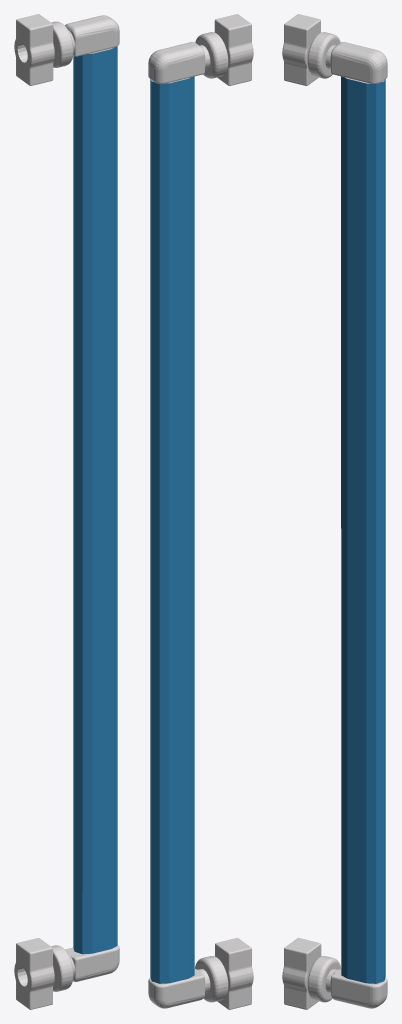
Rendered from handrail_30.dae.
3 renders of one model, left to right at view 1: azimuth 30°, elevation 25°; view 2: azimuth 210°, elevation 25°; view 3: azimuth 330°, elevation 25°, orthographic.
Visible parts, largest first — view 1: Handrail_30_001, Handrail_30; view 2: Handrail_30_001, Handrail_30; view 3: Handrail_30_001, Handrail_30.
Boxes of the visible parts, x1,y1,x2,y2 form: Handrail_30_001: (73, 46, 117, 954); Handrail_30: (14, 14, 119, 1009); Handrail_30_001: (150, 76, 194, 983); Handrail_30: (148, 14, 253, 1009); Handrail_30_001: (341, 76, 385, 983); Handrail_30: (282, 14, 387, 1009).
Bounding box in the file's own units: 0.0782 × 0.0331 × 0.7834.
